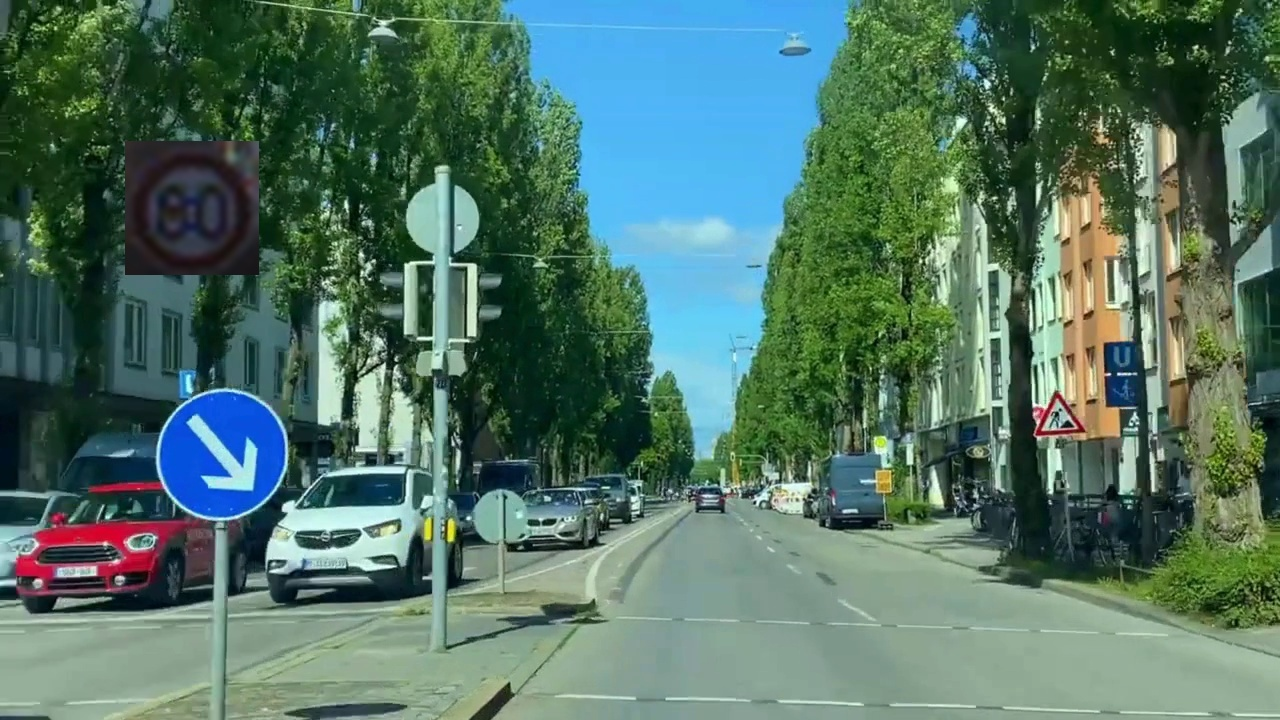Speed 80: (125, 141, 259, 275)
